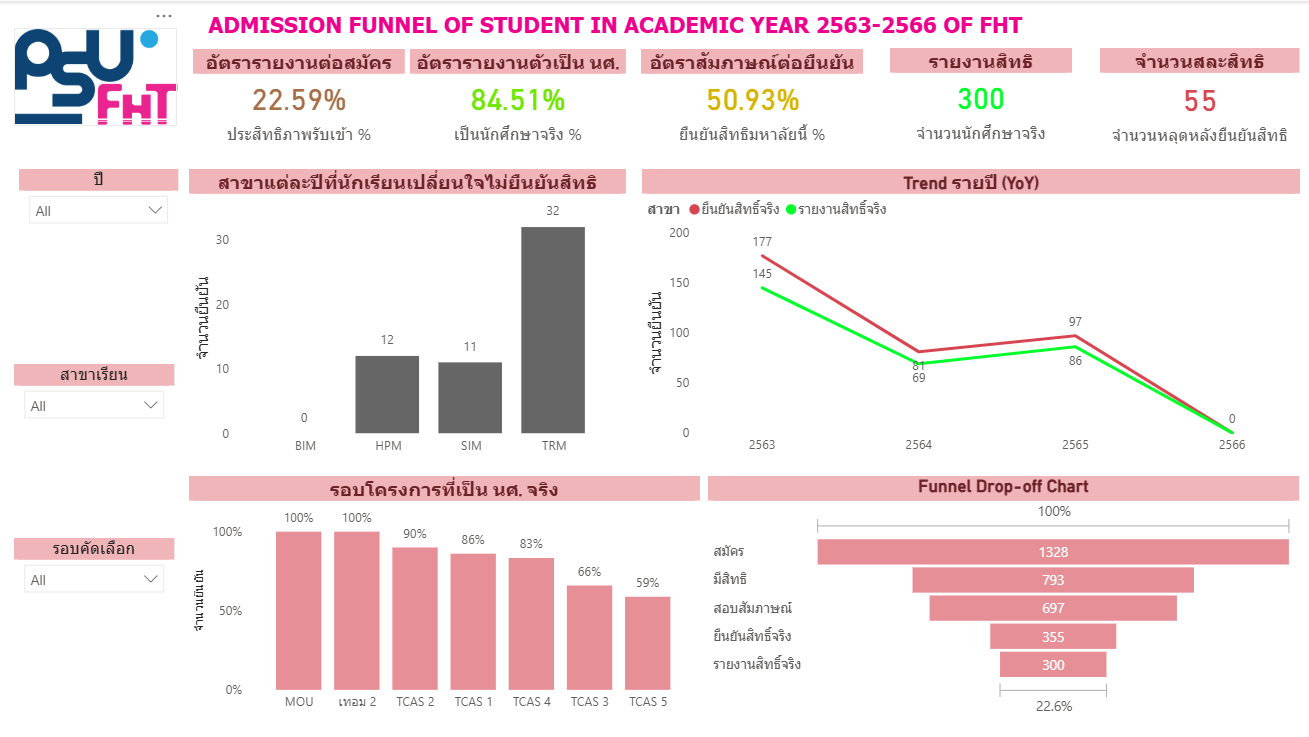

The page's visual inventory and layout, read from the dashboard file:
{"tool":"powerbi","page":{"name":" Funnel Analysis","canvas":[1280,720],"ordinal":2},"visuals":[{"type":"textbox","box":[197,5,824,42],"z":0},{"type":"slicer","title":"ปี","fields":{"Values":["tYears.year"]},"box":[18,163,155,63],"z":1000},{"type":"slicer","title":"รอบคัดเลือก","fields":{"Values":["tTCAS.TCAS"]},"box":[18.1,450.2,155.3,63.8],"z":2000},{"type":"card","title":"อัตรารายงานตัวเป็น นศ.","fields":{"Values":["Dax 4.Confirm Rate %"]},"box":[399,55,210,98],"z":3000},{"type":"card","title":"จำนวนสละสิทธิ","fields":{"Values":["Dax 4.Loss After Confirm"]},"box":[1070,56,194,99],"z":4000},{"type":"card","title":"รายงานสิทธิ","fields":{"Values":["Dax 4.จำนวนคนที่รายงานสิทธิ์จริง"]},"box":[865,56,177,97],"z":5000},{"type":"slicer","title":"สาขาเรียน","fields":{"Values":["Summit Count.base_major"]},"box":[18.1,312.2,155.3,64.7],"z":6000},{"type":"card","title":"อัตรารายงานต่อสมัคร","fields":{"Values":["Dax 4.อัตราแปลงผลรวม สมัครถึงรายงานตัว (%)"]},"box":[184,55,207,98],"z":7000},{"type":"card","title":"อัตราสัมภาษณ์ต่อยืนยัน","fields":{"Values":["Dax 4.อัตรา สัมภาษณ์เป็นผู้ยืนยัน (%)"]},"box":[624,55,216,98],"z":8000},{"type":"lineStackedColumnComboChart","title":"สาขาแต่ละปีที่นักเรียนเปลี่ยนใจไม่ยืนยันสิทธิ","fields":{"Category":["tMajor.base_major"],"Y":["Dax 4.สละสิทธิ"]},"box":[184,163,425,287],"z":9000},{"type":"columnChart","title":"รอบโครงการที่เป็น นศ. จริง","fields":{"Y":["Dax 4.Confirm Rate %"],"Category":["tTCAS.TCAS"]},"box":[184,462,497,238],"z":10000},{"type":"funnel","title":"Funnel Drop-off Chart","fields":{"Y":["Dax 4.สมัคร","Dax 4.มีสิทธิ","Dax 4.สอบสัมภาษณ์","Dax 4.ยืนยันสิทธิ์จริง","Dax 4.รายงานสิทธิ์จริง"]},"box":[689,462,575,238],"z":11000},{"type":"lineChart","title":"Trend รายปี (YoY)","fields":{"Y":["Dax 4.ยืนยันสิทธิ์จริง","Dax 4.รายงานสิทธิ์จริง"],"Category":["Summit Count.academic year"]},"box":[624,163,640,287],"z":12000},{"type":"image","box":[18.5,33.1,157.6,94.3],"z":13000}]}

Visuals, with their boxes in screenshot pixels (x1, y1, x2, y2), scaled from the page's 1280x720 canvas onto the 1309x737 screenshot:
textbox: <box>201,5,1044,48</box>
"ปี" slicer: <box>18,167,177,231</box>
"รอบคัดเลือก" slicer: <box>19,461,177,526</box>
"อัตรารายงานตัวเป็น นศ." card: <box>408,56,623,157</box>
"จำนวนสละสิทธิ" card: <box>1094,57,1293,159</box>
"รายงานสิทธิ" card: <box>885,57,1066,157</box>
"สาขาเรียน" slicer: <box>19,320,177,386</box>
"อัตรารายงานต่อสมัคร" card: <box>188,56,400,157</box>
"อัตราสัมภาษณ์ต่อยืนยัน" card: <box>638,56,859,157</box>
"สาขาแต่ละปีที่นักเรียนเปลี่ยนใจไม่ยืนยันสิทธิ" lineStackedColumnComboChart: <box>188,167,623,461</box>
"รอบโครงการที่เป็น นศ. จริง" columnChart: <box>188,473,696,717</box>
"Funnel Drop-off Chart" funnel: <box>705,473,1293,717</box>
"Trend รายปี (YoY)" lineChart: <box>638,167,1293,461</box>
image: <box>19,34,180,130</box>
